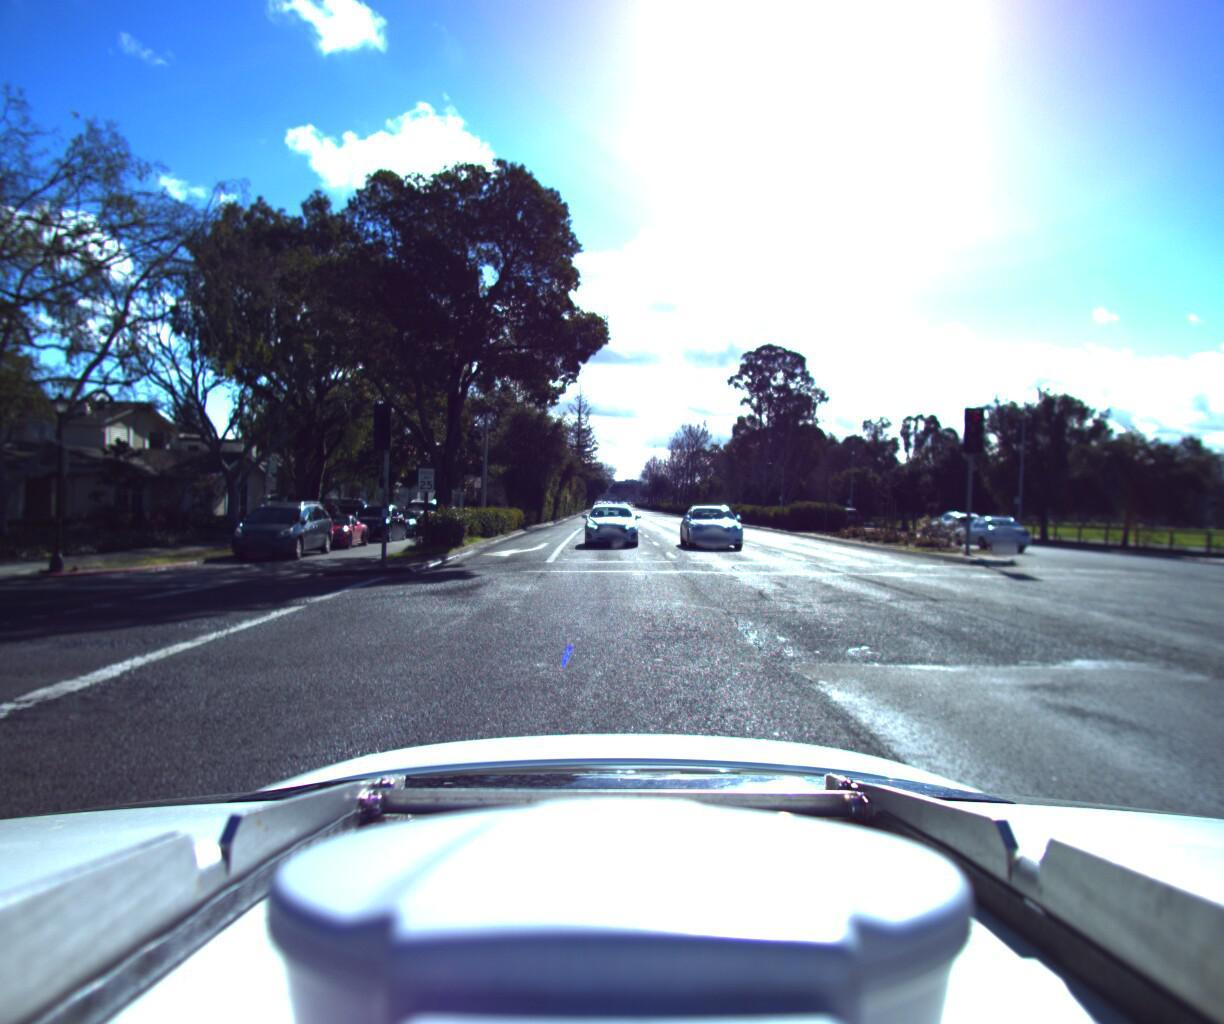car: (217, 494, 336, 560), (679, 498, 754, 553), (931, 506, 1020, 547), (291, 506, 370, 548), (580, 497, 640, 545), (340, 498, 407, 541), (393, 493, 448, 530), (376, 501, 425, 534), (284, 494, 341, 519)
